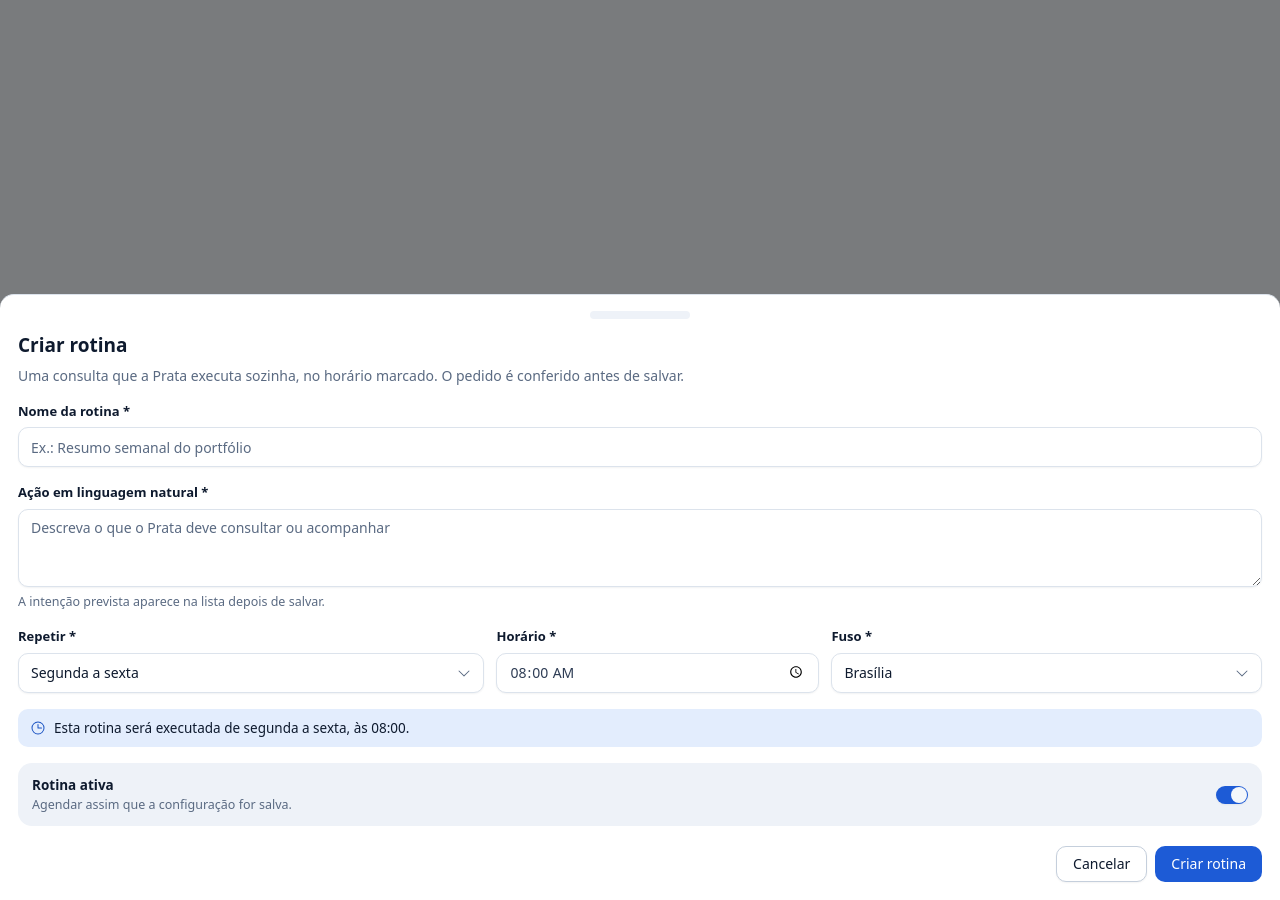
Scenario: FormularioRotina › valida prompt com menos de 10 caracteres
Type "curto" into the text box labelled "Ação em linguagem natural *".
click(640, 547); type("curto")  # box [18,508,1262,586]
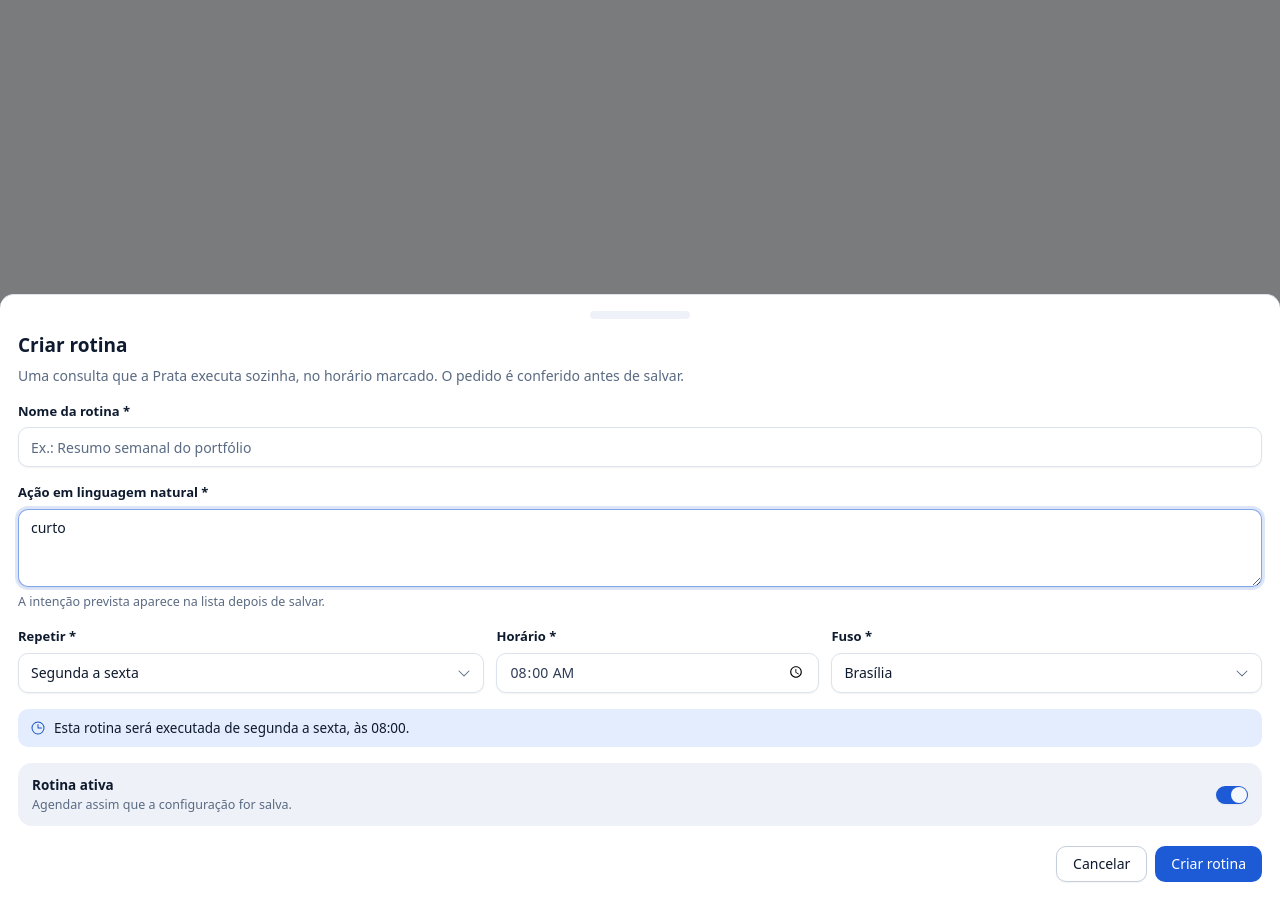
Click the button "Criar rotina".
click(1209, 864)  # box [1155,846,1262,882]
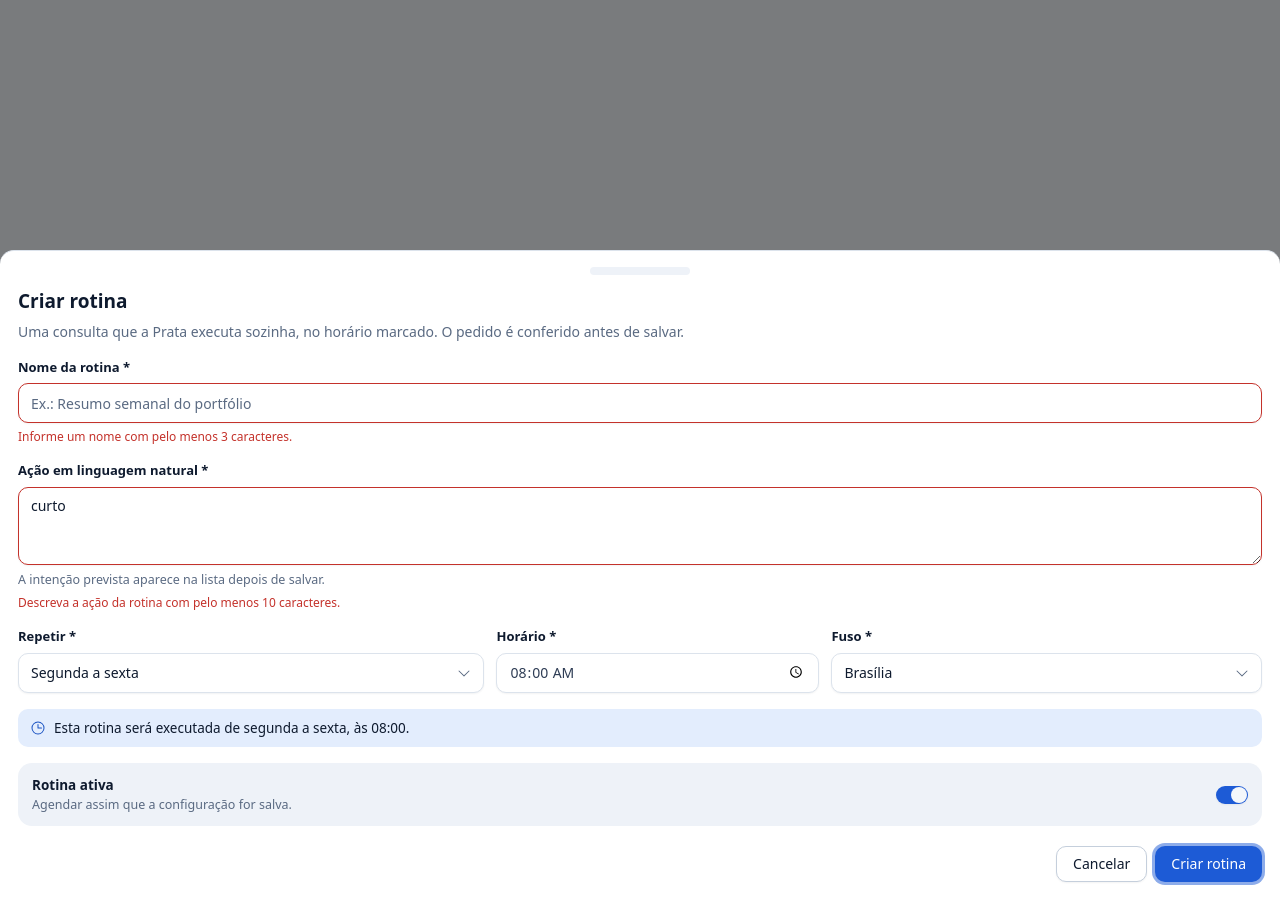
expect the text "Descreva a ação da rotina com pelo menos 10 caracteres." is shown: met, box [18,594,340,611]
